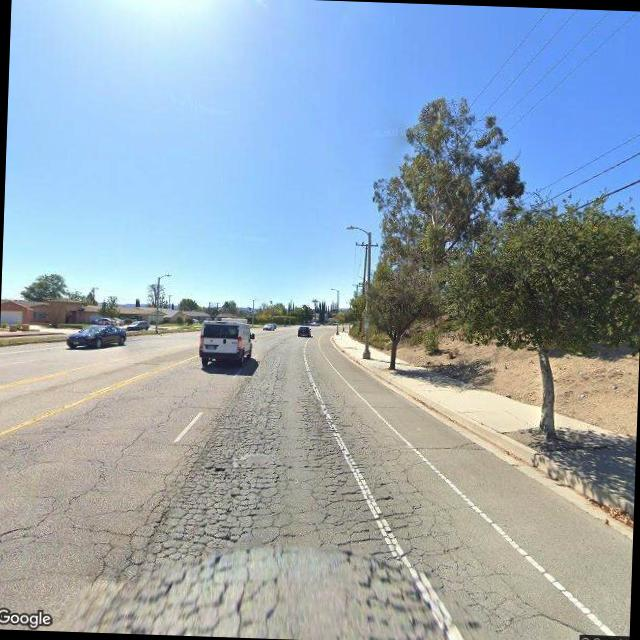crack: (0, 369, 526, 640)
